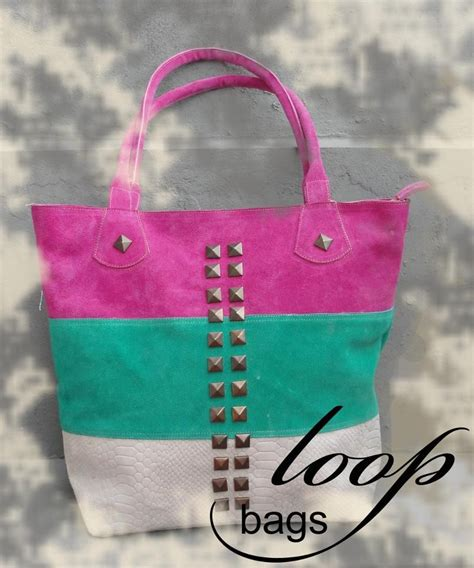gamuza: (26, 193, 412, 537)
